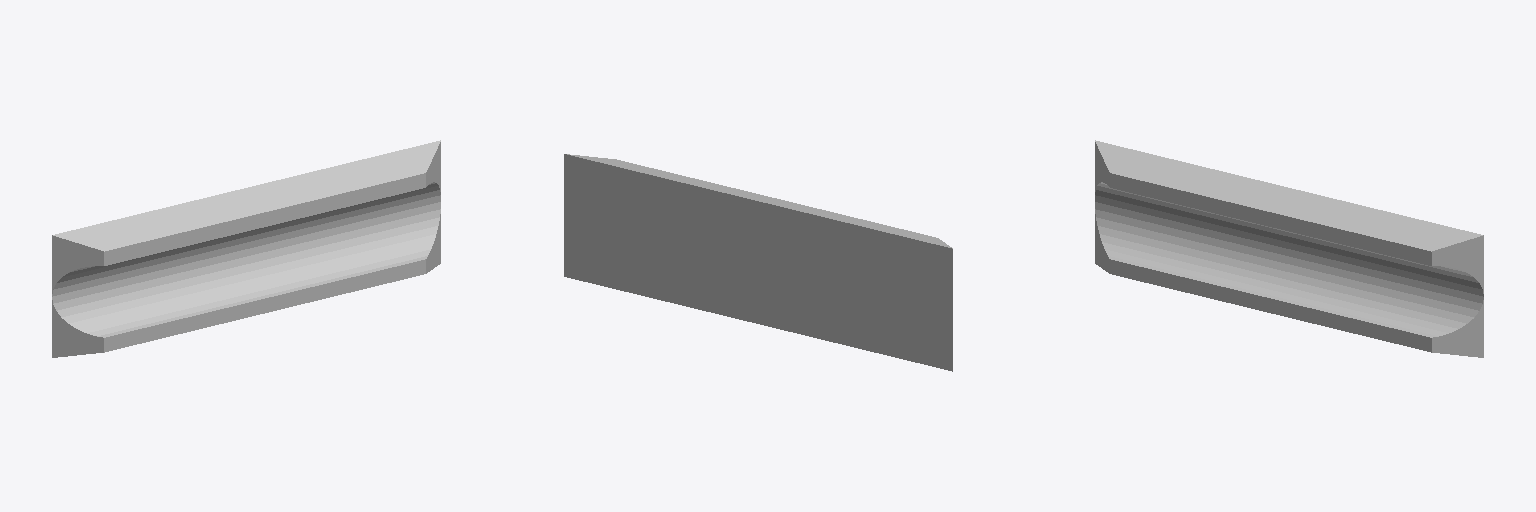
The model's file is halfpipe.obj.
3 views of the same model, side by side, from view 1: azimuth 30°, elevation 25°; view 2: azimuth 150°, elevation 25°; view 3: azimuth 330°, elevation 25° (orthographic).
Parts seen in each view (by area): view 1: Cube, Cube.001; view 2: Cube, Cube.001; view 3: Cube, Cube.001.
Part boxes in pixels (bbox=[...]): Cube: bbox=[52, 140, 440, 357]; Cube.001: bbox=[52, 144, 440, 357]; Cube: bbox=[564, 154, 952, 371]; Cube.001: bbox=[564, 154, 949, 309]; Cube: bbox=[1095, 140, 1483, 357]; Cube.001: bbox=[1095, 156, 1483, 357].
Size of the model in its own units: 968 by 292 by 80.